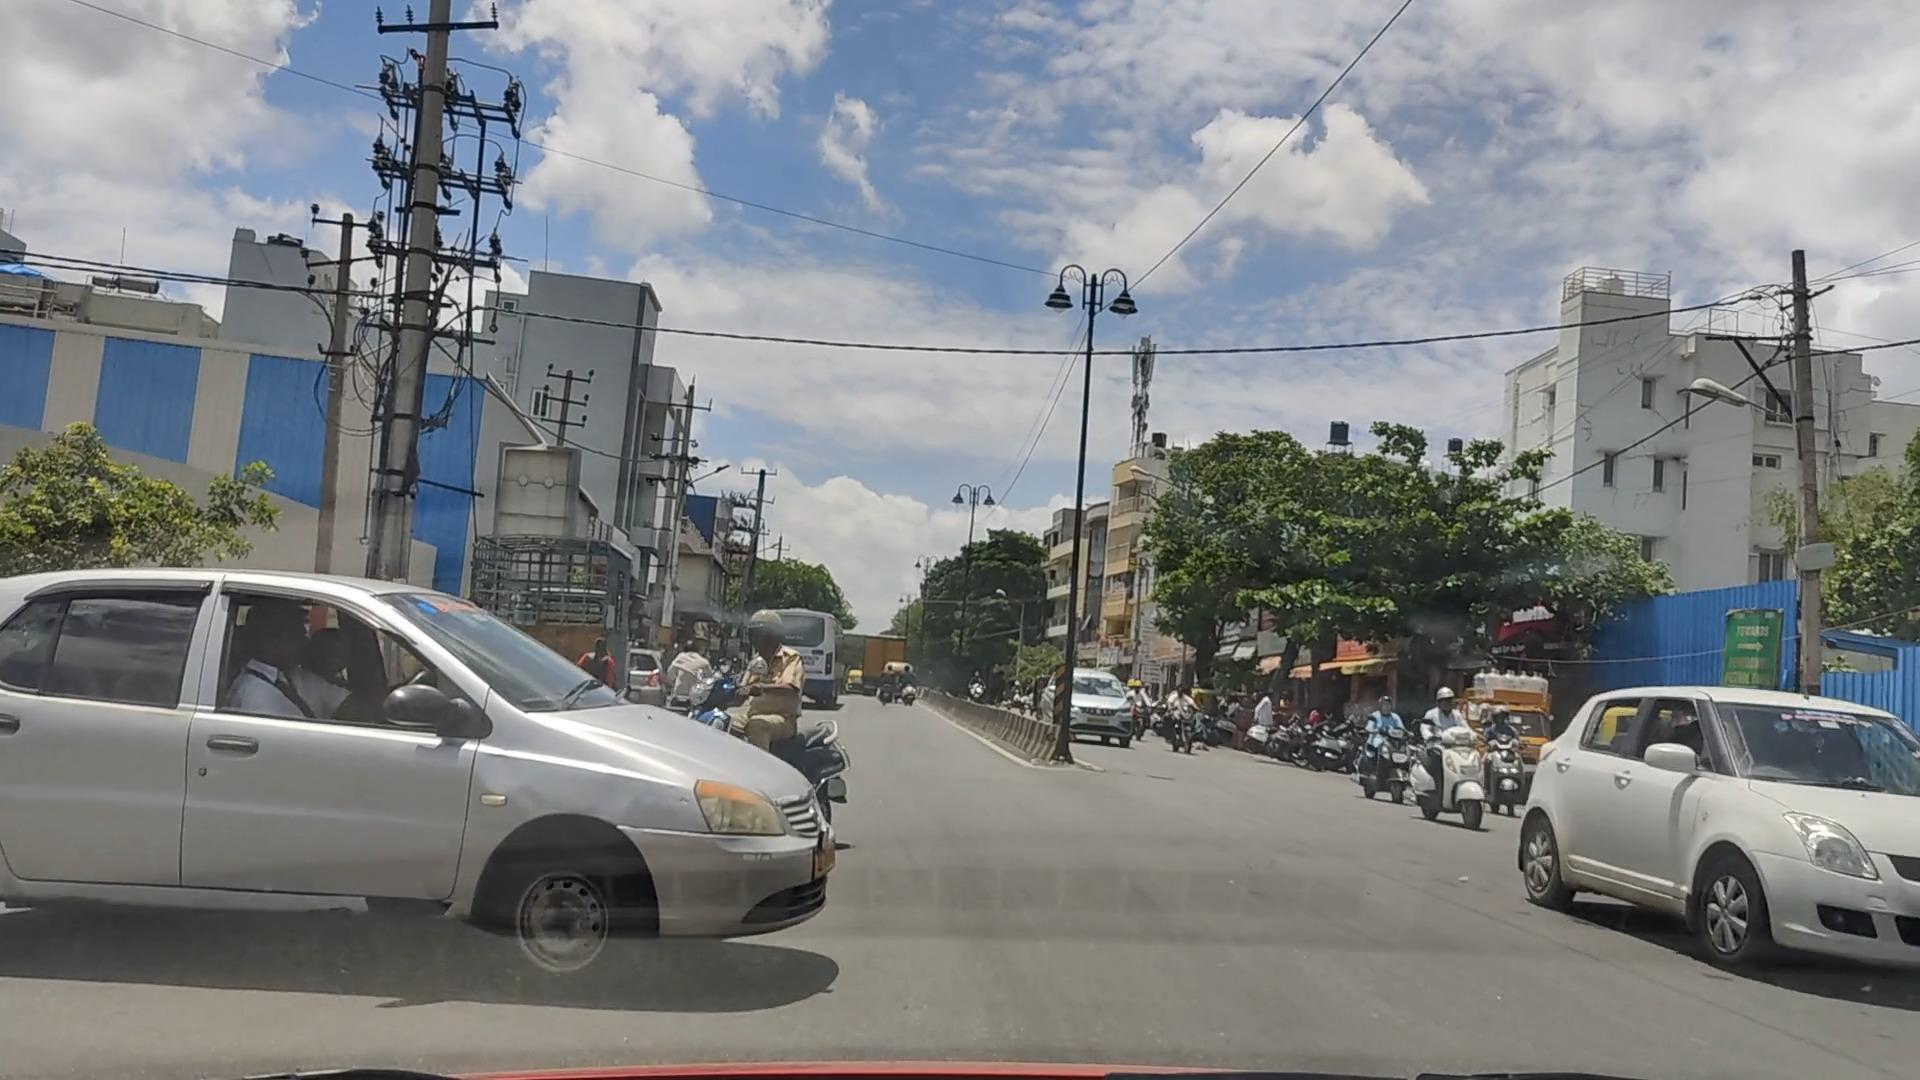LMV: (11, 560, 831, 968), (695, 613, 853, 770)
